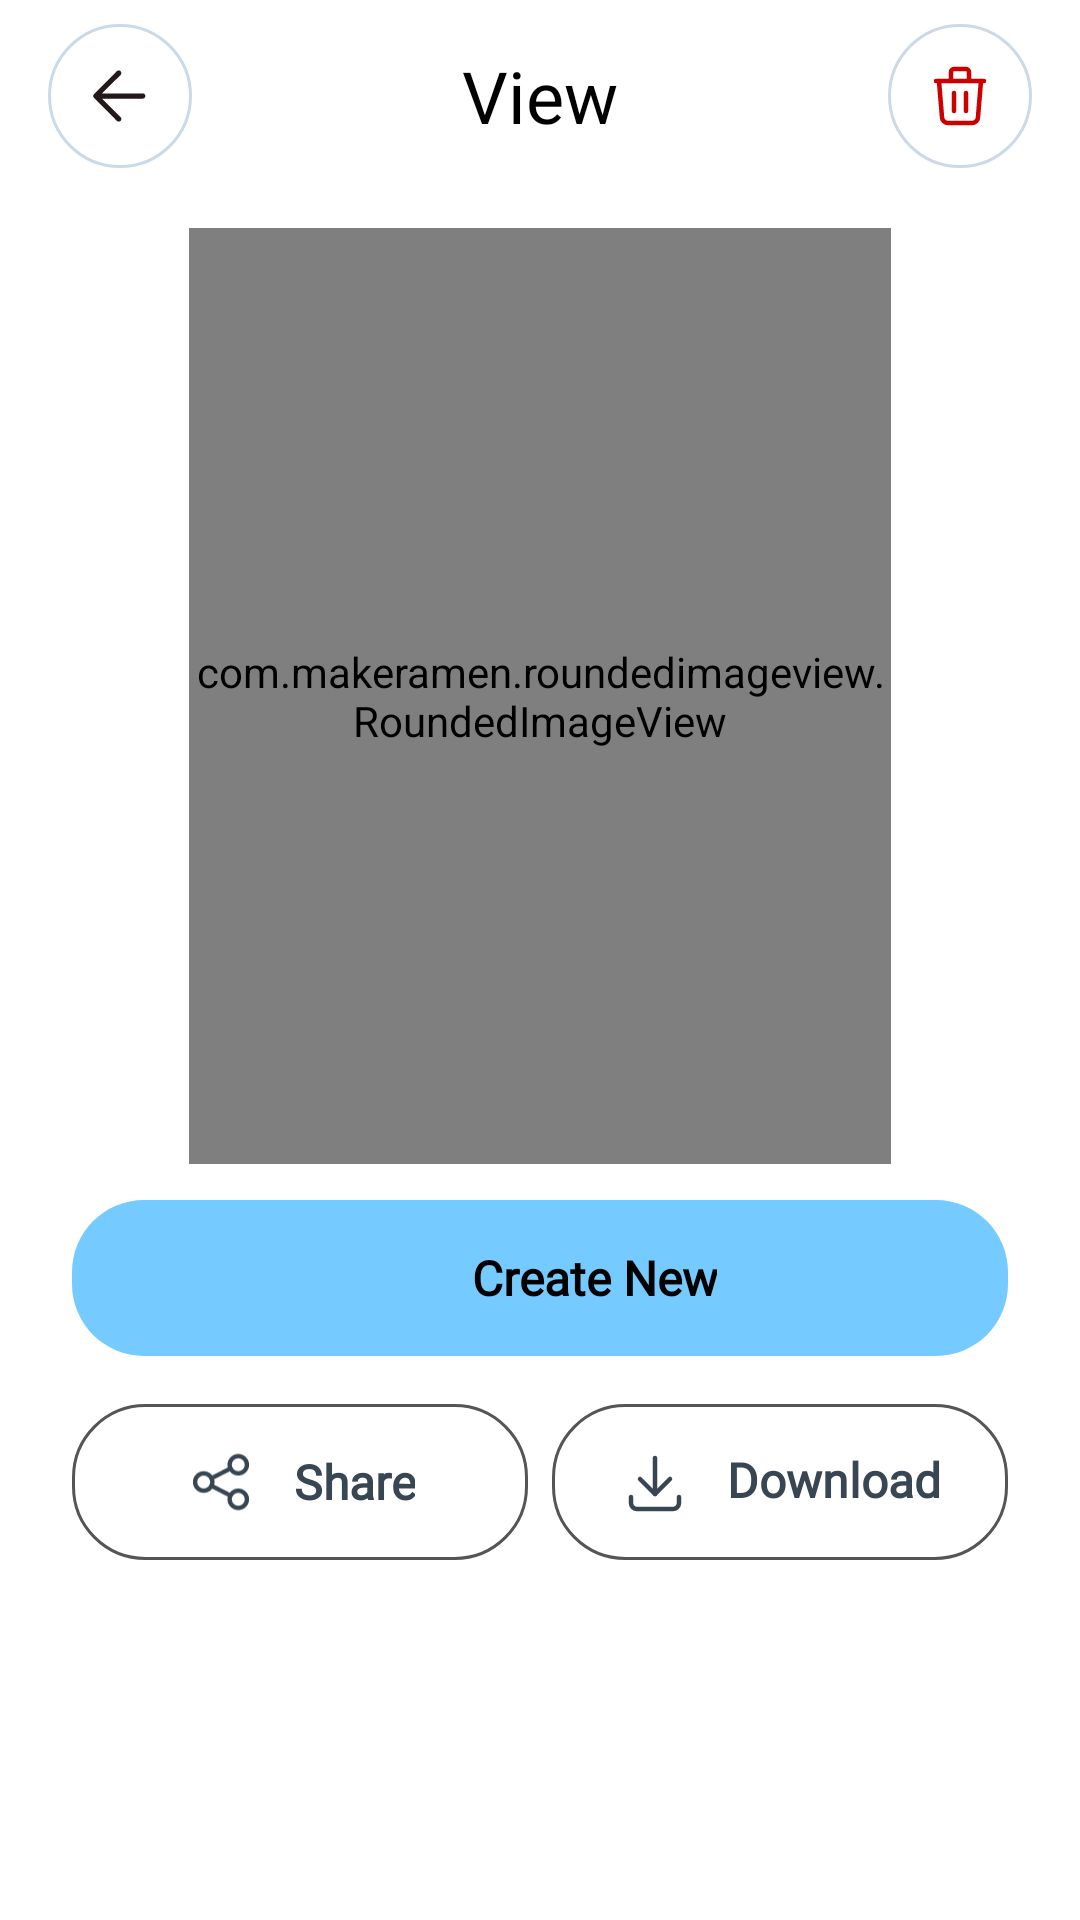

Screen size 1080x1920. Icon name, then its box in pixels as {"left": x1, "top": y1, "right": x2, "bottom": y2}:
back round: {"left": 48, "top": 24, "right": 192, "bottom": 168}
